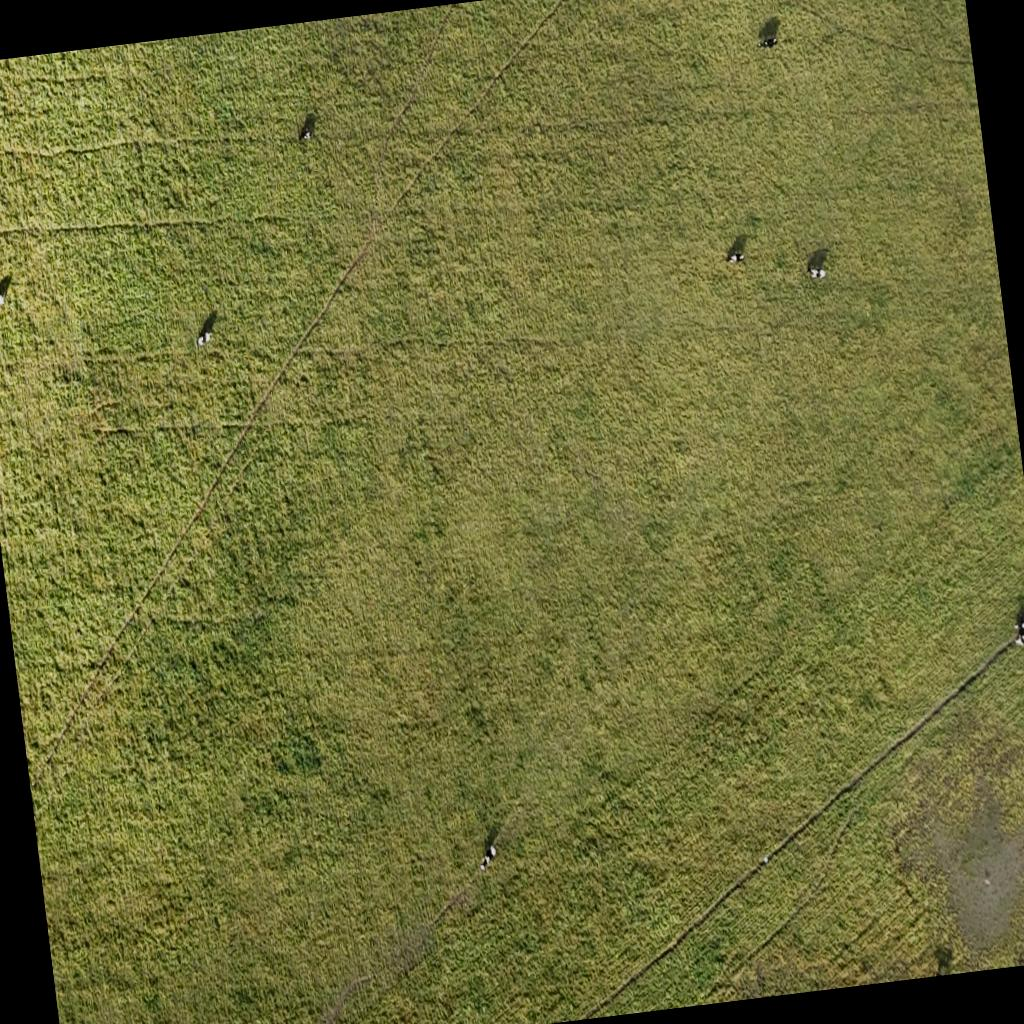cow: (474, 844, 497, 872), (1013, 617, 1024, 644), (808, 264, 826, 280), (726, 250, 744, 264), (0, 290, 4, 307)
